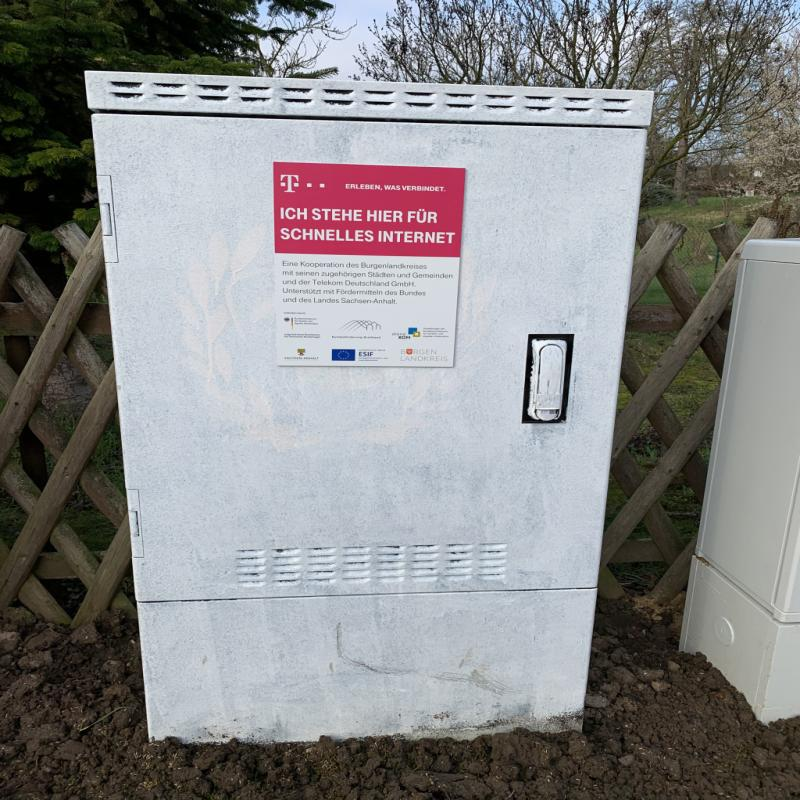NT-Gehause: (86, 73, 656, 739)
Steaker: (274, 159, 460, 370)
